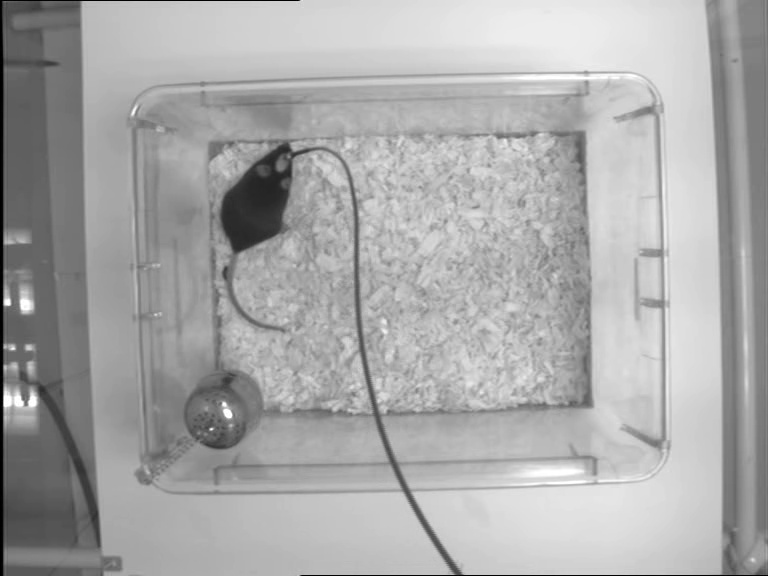mice: (222, 138, 298, 334)
